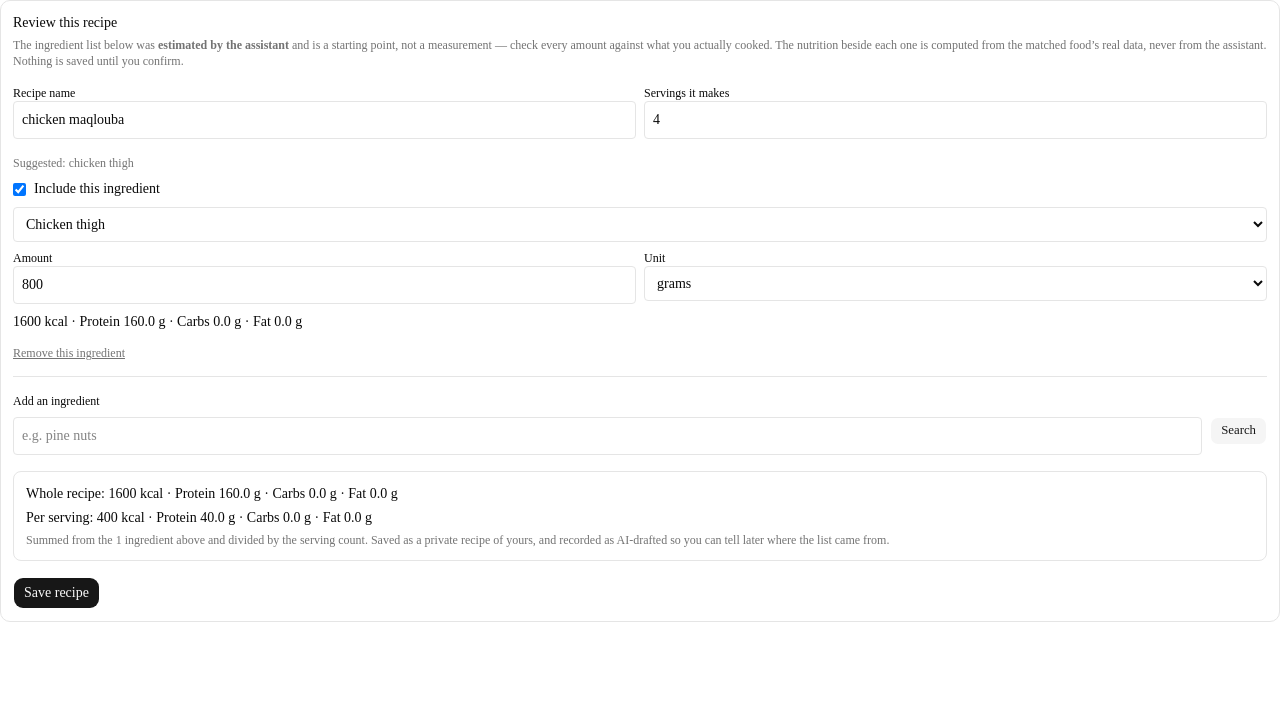
Scenario: RecipeDraftReview — the total is the sum of its parts › recomputes per-serving when the serving count changes
Replace the text in the number field labelled "Servings it makes" with "8" at (956, 120), box 644,101 -> 1267,139
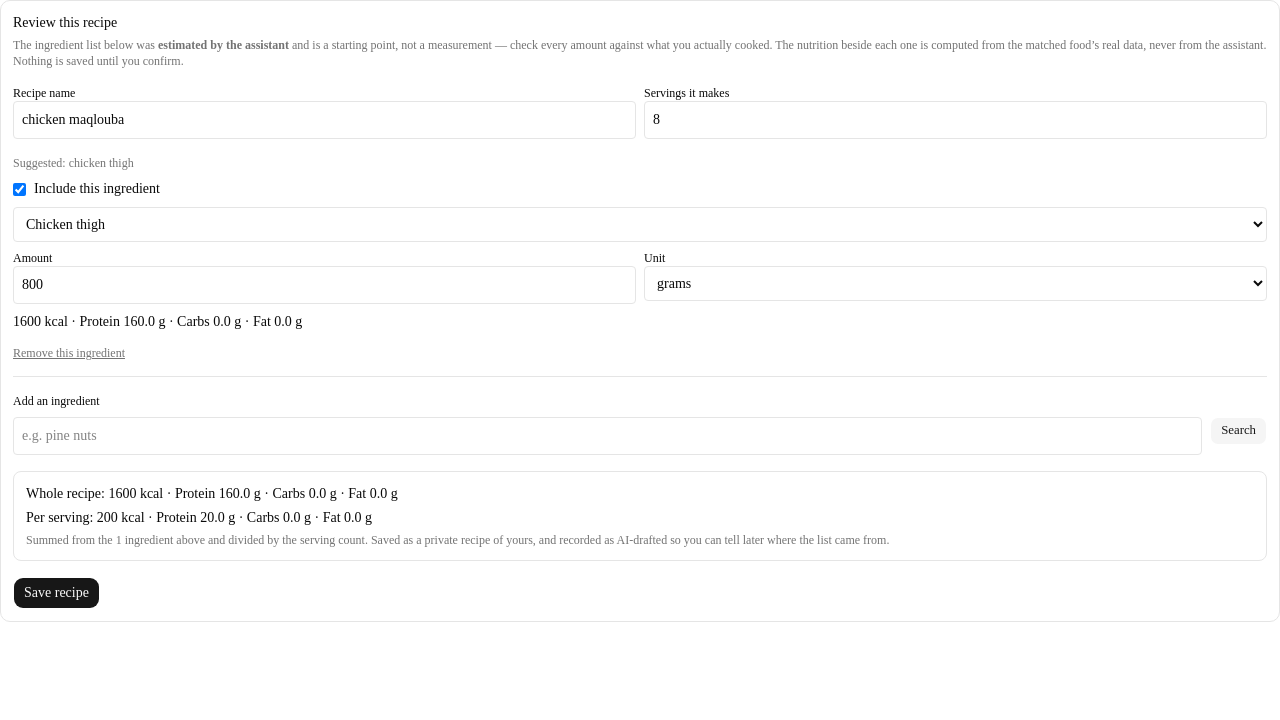
expect the text "Per serving: 200 kcal" is shown: met, box 26,510 -> 372,525
